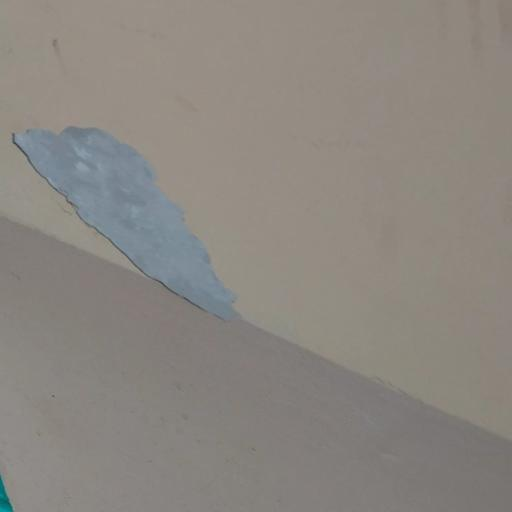peeling: (8, 110, 282, 348)
